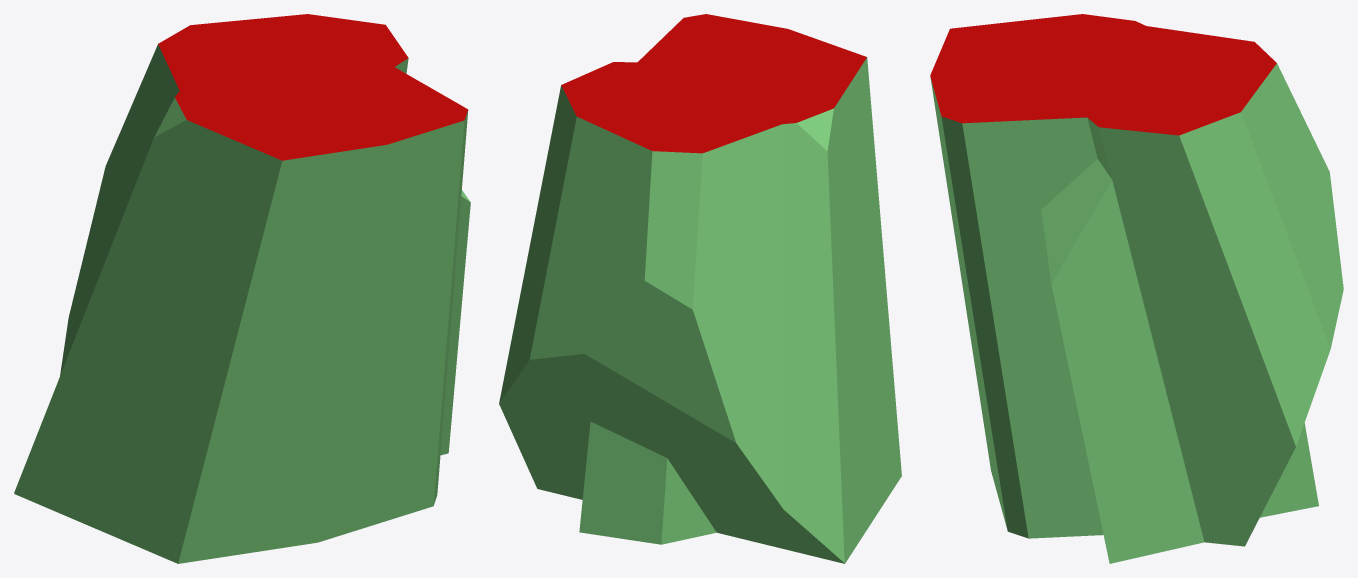
File: x_lock_BIGMICRO_skala_part6_1_rmstrd.fbx
3 renders of one model, left to right at view 1: azimuth 30°, elevation 25°; view 2: azimuth 150°, elevation 25°; view 3: azimuth 270°, elevation 25°, orthographic. The views are drawn at different scales.
Visible parts, largest first — view 1: x_lock_BIGMICRO_skala_part6_1_rmstrd1; view 2: x_lock_BIGMICRO_skala_part6_1_rmstrd1; view 3: x_lock_BIGMICRO_skala_part6_1_rmstrd1.
Boxes of the visible parts, x1,y1,x2,y2 form: x_lock_BIGMICRO_skala_part6_1_rmstrd1: (14,14,470,563); x_lock_BIGMICRO_skala_part6_1_rmstrd1: (499,14,901,563); x_lock_BIGMICRO_skala_part6_1_rmstrd1: (930,14,1343,563).
Bounding box in the file's own units: 11.51 × 12.29 × 11.11.
